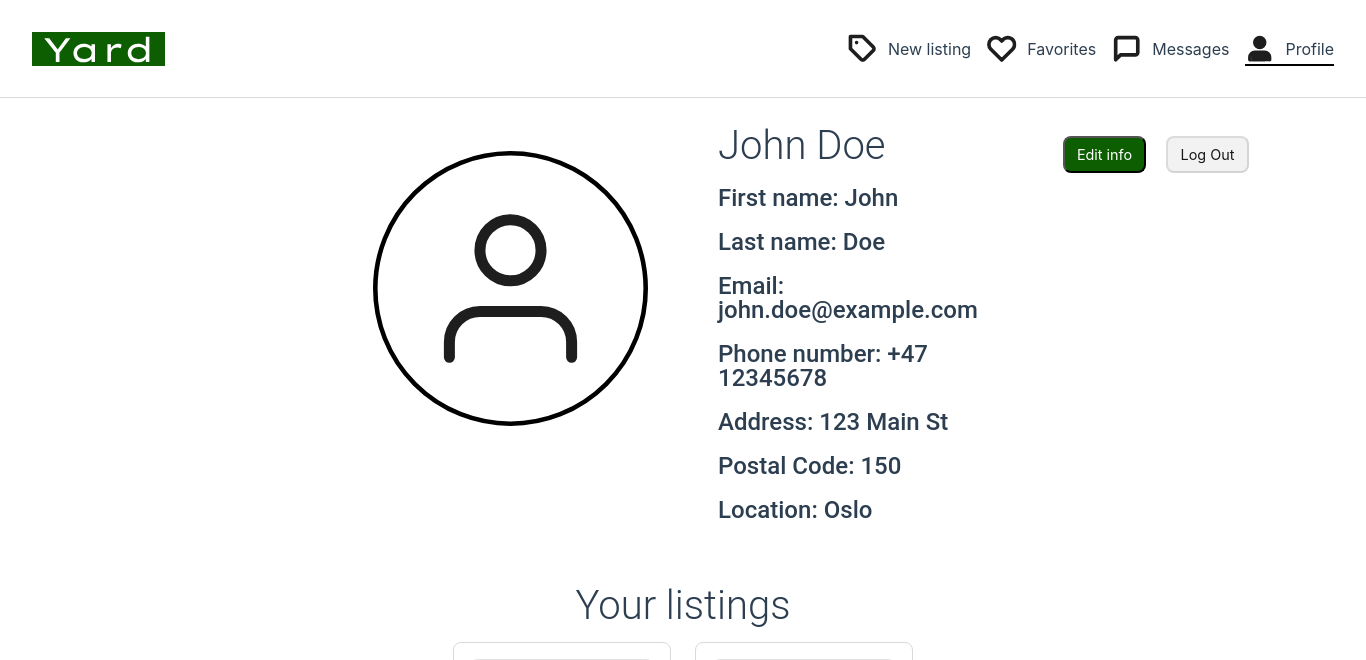
Test: Profile Page › can cancel logout process
What coordinates should you click on to do the following:
click the button with class "logout-button"
I would click on:
 (1208, 155)
Its box is x1=1166 y1=136 x2=1249 y2=173.
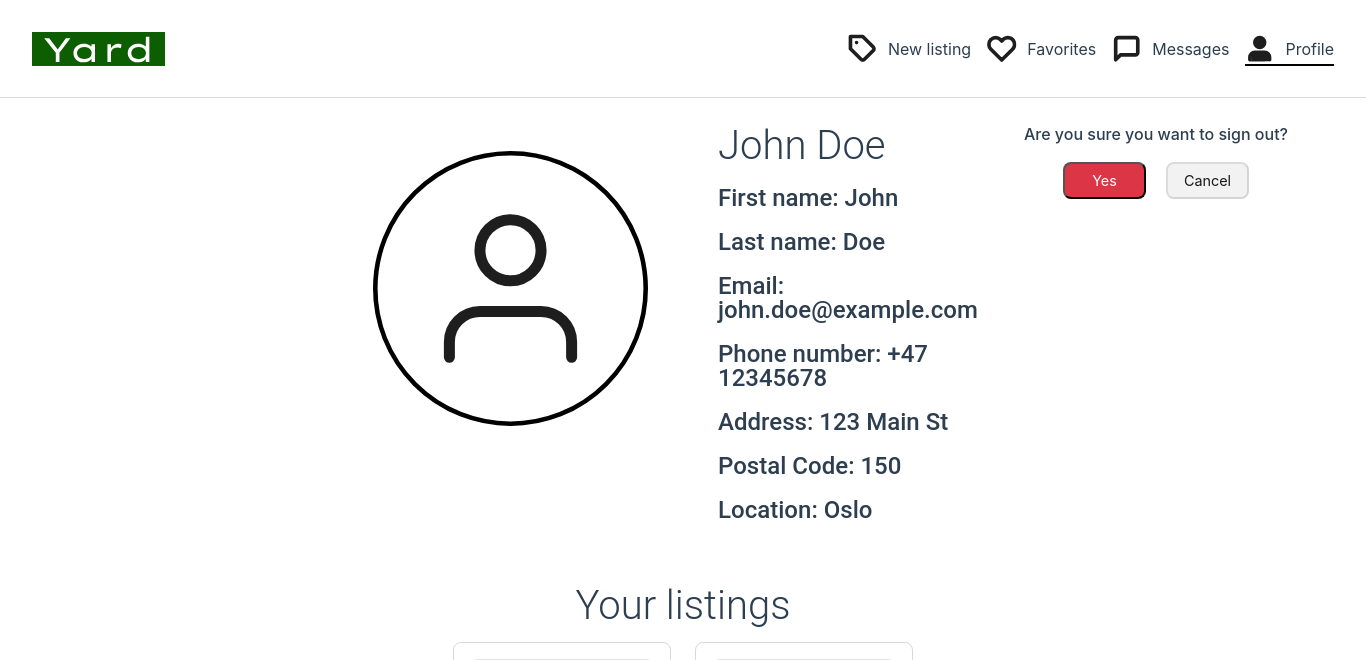
What coordinates should you click on to do the following:
click the button with class "cancel-button"
I would click on:
 (1208, 181)
Its box is x1=1166 y1=162 x2=1249 y2=199.
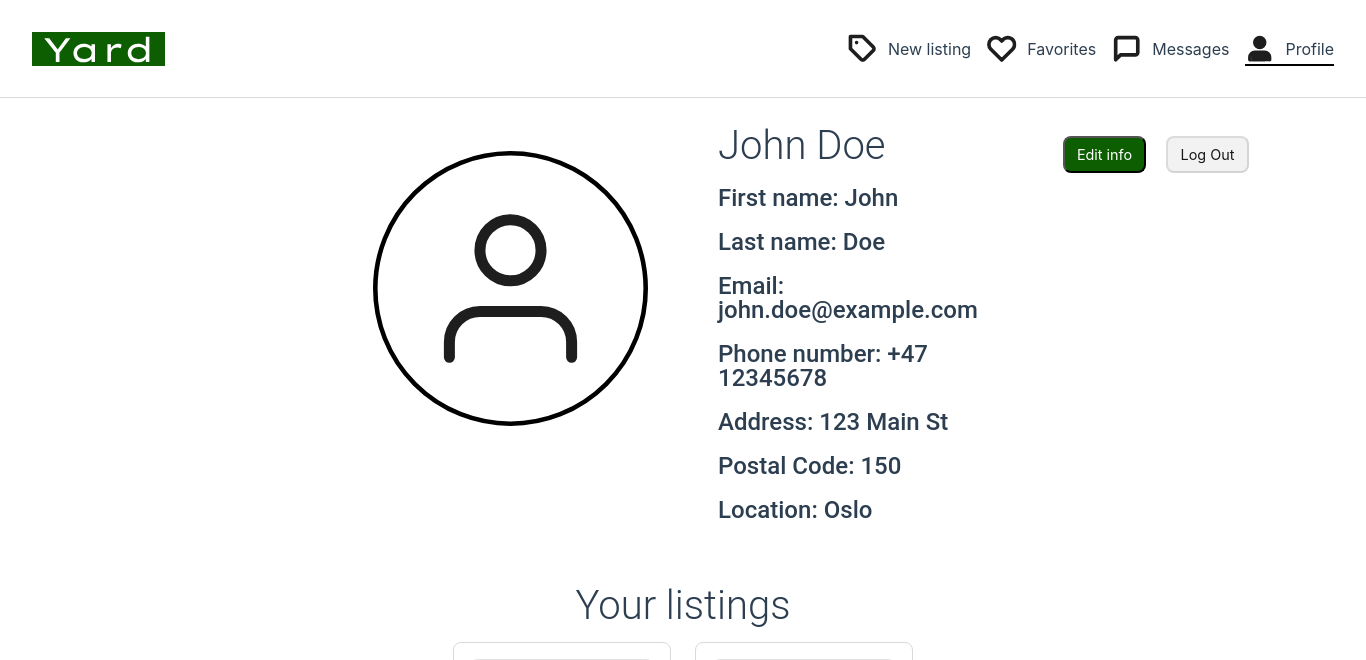
Result: the button with class "edit-info-button" is shown at x1=1063 y1=136 x2=1146 y2=173
Result: the button with class "logout-button" is shown at x1=1166 y1=136 x2=1249 y2=173
